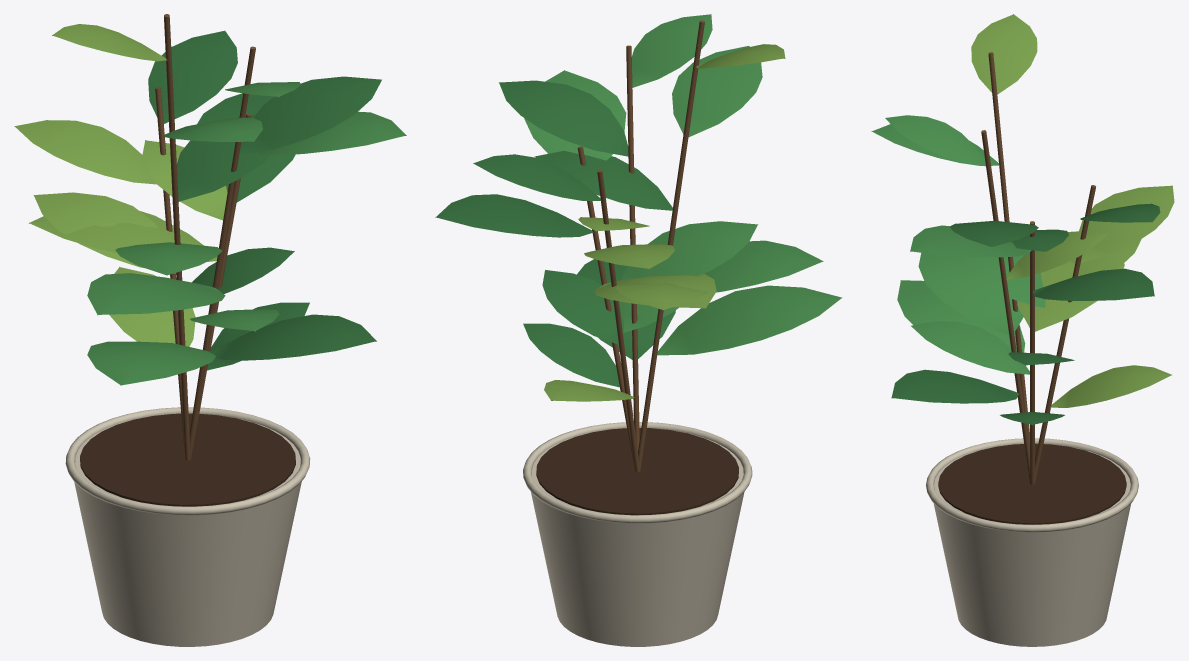
File: desk-side-broadleaf.glb
3 renders of one model, left to right at view 1: azimuth 30°, elevation 25°; view 2: azimuth 150°, elevation 25°; view 3: azimuth 270°, elevation 25°, orthographic. The views are drawn at different scales.
Parts seen in each view (by area): view 1: part::desk-side-broadleaf/thrown-ceramic-planter-001, part::desk-side-broadleaf/dark-potting-mix-001, part::desk-side-broadleaf/folded-broad-leaf-019, part::desk-side-broadleaf/folded-broad-leaf-015, part::desk-side-broadleaf/folded-broad-leaf-016, part::desk-side-broadleaf/folded-broad-leaf-014, part::desk-side-broadleaf/planter-rounded-lip-001, part::desk-side-broadleaf/folded-broad-leaf-017, part::desk-side-broadleaf/folded-broad-leaf-006, part::desk-side-broadleaf/folded-broad-leaf-007, part::desk-side-broadleaf/folded-broad-leaf-008, part::desk-side-broadleaf/folded-broad-leaf-005 (+15 smaller); view 2: part::desk-side-broadleaf/thrown-ceramic-planter-001, part::desk-side-broadleaf/dark-potting-mix-001, part::desk-side-broadleaf/folded-broad-leaf-006, part::desk-side-broadleaf/folded-broad-leaf-019, part::desk-side-broadleaf/folded-broad-leaf-009, part::desk-side-broadleaf/folded-broad-leaf-013, part::desk-side-broadleaf/folded-broad-leaf-004, part::desk-side-broadleaf/planter-rounded-lip-001, part::desk-side-broadleaf/folded-broad-leaf-008, part::desk-side-broadleaf/folded-broad-leaf-020, part::desk-side-broadleaf/folded-broad-leaf-017, part::desk-side-broadleaf/folded-broad-leaf-012 (+15 smaller); view 3: part::desk-side-broadleaf/thrown-ceramic-planter-001, part::desk-side-broadleaf/dark-potting-mix-001, part::desk-side-broadleaf/folded-broad-leaf-017, part::desk-side-broadleaf/planter-rounded-lip-001, part::desk-side-broadleaf/folded-broad-leaf-010, part::desk-side-broadleaf/folded-broad-leaf-014, part::desk-side-broadleaf/folded-broad-leaf-002, part::desk-side-broadleaf/folded-broad-leaf-016, part::desk-side-broadleaf/folded-broad-leaf-004, part::desk-side-broadleaf/folded-broad-leaf-011, part::desk-side-broadleaf/folded-broad-leaf-020, part::desk-side-broadleaf/folded-broad-leaf-006 (+15 smaller).
Boxes of the visible parts, box(x1,y1,x2,y2) form: part::desk-side-broadleaf/thrown-ceramic-planter-001: box(74, 414, 301, 646); part::desk-side-broadleaf/dark-potting-mix-001: box(80, 413, 295, 506); part::desk-side-broadleaf/folded-broad-leaf-019: box(239, 76, 381, 154); part::desk-side-broadleaf/folded-broad-leaf-015: box(148, 31, 237, 123); part::desk-side-broadleaf/folded-broad-leaf-016: box(209, 314, 375, 360); part::desk-side-broadleaf/folded-broad-leaf-014: box(15, 120, 156, 184); part::desk-side-broadleaf/planter-rounded-lip-001: box(65, 407, 310, 515); part::desk-side-broadleaf/folded-broad-leaf-017: box(87, 273, 225, 314); part::desk-side-broadleaf/folded-broad-leaf-006: box(87, 341, 215, 385); part::desk-side-broadleaf/folded-broad-leaf-007: box(34, 192, 175, 273); part::desk-side-broadleaf/folded-broad-leaf-008: box(176, 114, 270, 201); part::desk-side-broadleaf/folded-broad-leaf-005: box(255, 111, 405, 155); part::desk-side-broadleaf/thrown-ceramic-planter-001: box(531, 429, 744, 646); part::desk-side-broadleaf/dark-potting-mix-001: box(536, 428, 738, 515); part::desk-side-broadleaf/folded-broad-leaf-006: box(657, 285, 841, 355); part::desk-side-broadleaf/folded-broad-leaf-019: box(499, 80, 628, 156); part::desk-side-broadleaf/folded-broad-leaf-009: box(672, 46, 762, 137); part::desk-side-broadleaf/folded-broad-leaf-013: box(622, 221, 757, 279); part::desk-side-broadleaf/folded-broad-leaf-004: box(436, 194, 593, 237); part::desk-side-broadleaf/planter-rounded-lip-001: box(523, 422, 752, 523); part::desk-side-broadleaf/folded-broad-leaf-008: box(535, 150, 672, 210); part::desk-side-broadleaf/folded-broad-leaf-020: box(632, 14, 712, 87); part::desk-side-broadleaf/folded-broad-leaf-017: box(704, 240, 822, 292); part::desk-side-broadleaf/folded-broad-leaf-012: box(542, 270, 624, 344); part::desk-side-broadleaf/thrown-ceramic-planter-001: box(933, 445, 1131, 646); part::desk-side-broadleaf/dark-potting-mix-001: box(938, 443, 1126, 524); part::desk-side-broadleaf/folded-broad-leaf-017: box(918, 252, 1023, 335); part::desk-side-broadleaf/planter-rounded-lip-001: box(926, 438, 1138, 532); part::desk-side-broadleaf/folded-broad-leaf-010: box(971, 14, 1037, 94); part::desk-side-broadleaf/folded-broad-leaf-014: box(1079, 185, 1174, 262); part::desk-side-broadleaf/folded-broad-leaf-002: box(911, 321, 1029, 374); part::desk-side-broadleaf/folded-broad-leaf-016: box(891, 369, 1019, 403); part::desk-side-broadleaf/folded-broad-leaf-004: box(1032, 268, 1154, 300); part::desk-side-broadleaf/folded-broad-leaf-011: box(1050, 365, 1171, 407); part::desk-side-broadleaf/folded-broad-leaf-020: box(885, 115, 985, 166); part::desk-side-broadleaf/folded-broad-leaf-006: box(897, 280, 1025, 352).
Bounding box in the file's own units: 0.686 × 1.29 × 0.6506.
